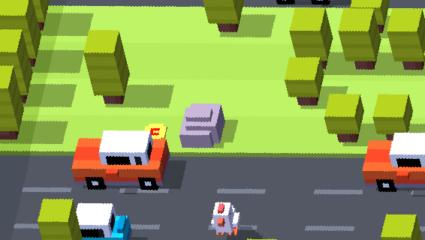hen: (211, 201, 241, 236)
obstacle: (72, 130, 171, 191), (83, 30, 130, 105), (369, 133, 425, 193), (290, 7, 335, 69), (0, 0, 42, 62), (340, 8, 380, 70), (0, 30, 33, 95), (78, 202, 133, 239), (389, 8, 424, 65), (180, 104, 224, 148), (285, 57, 323, 106), (0, 66, 24, 136), (373, 93, 412, 133), (38, 199, 74, 239), (324, 95, 360, 134), (206, 0, 241, 33), (383, 215, 424, 240), (336, 134, 360, 142), (403, 62, 425, 70), (0, 131, 19, 140)
